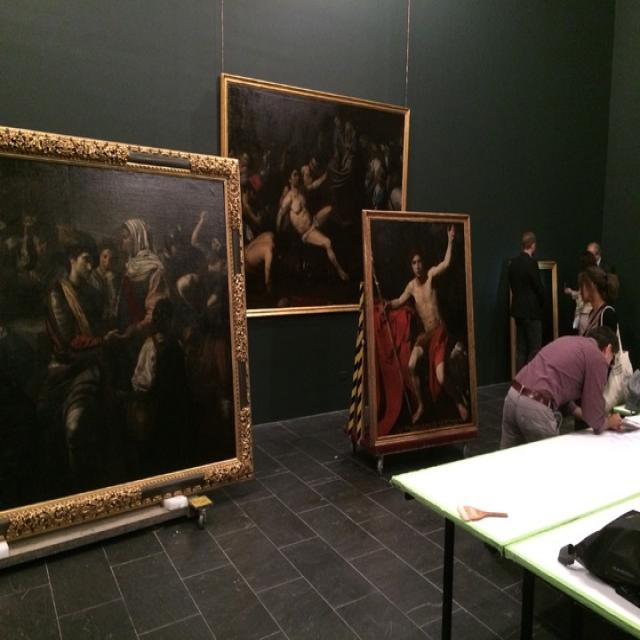body: (2, 184, 229, 469), (361, 142, 469, 422), (498, 322, 624, 560), (235, 103, 348, 283), (573, 266, 635, 432), (507, 230, 548, 374), (576, 263, 611, 338), (586, 239, 612, 274), (626, 366, 640, 399)
